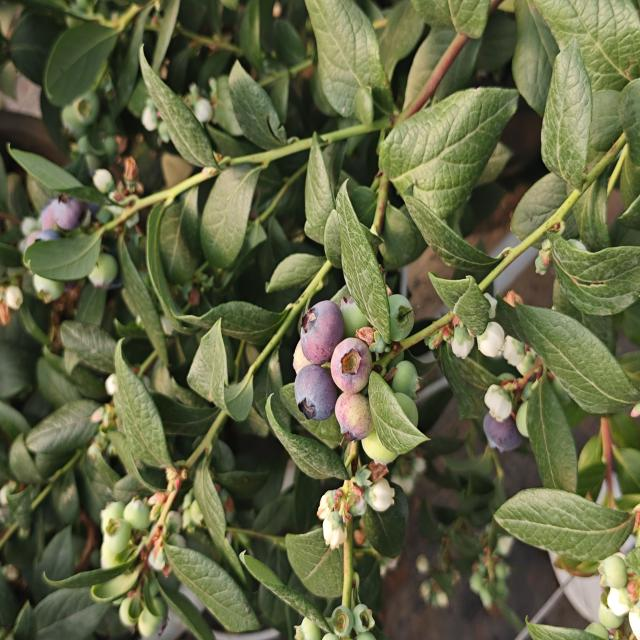ripe: (297, 298, 346, 367), (478, 398, 533, 456), (292, 361, 338, 425)
